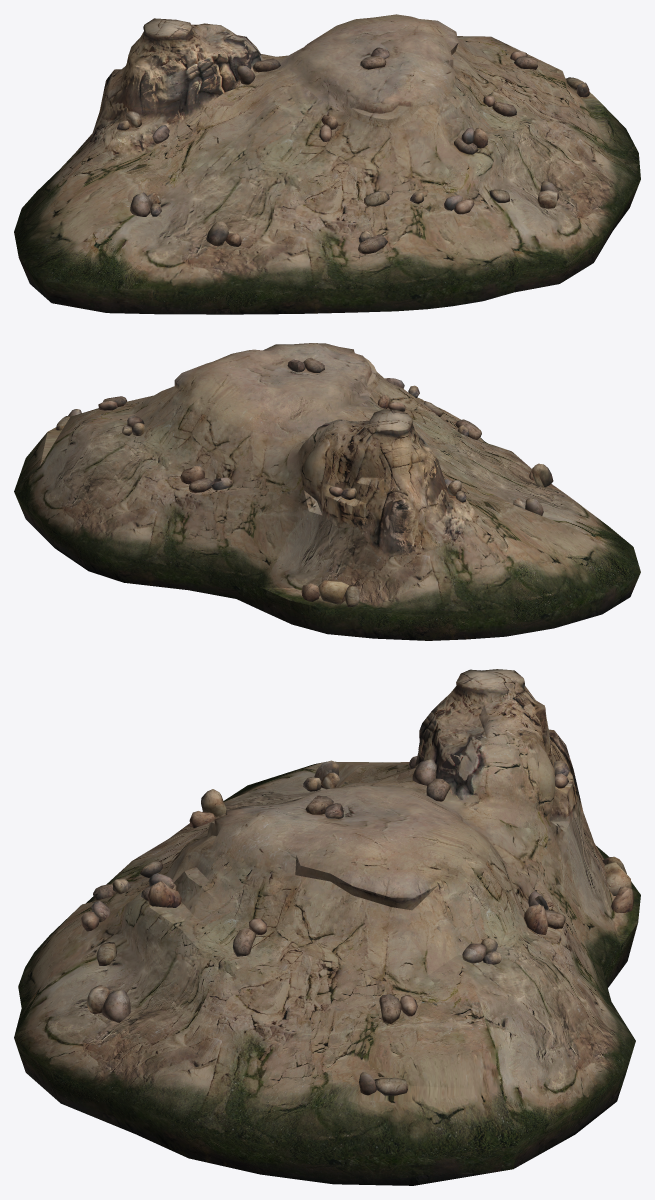
The model's file is Rock 05.FBX.
The picture shows the model from 3 angles, top to bottom: view 1: azimuth 30°, elevation 25°; view 2: azimuth 150°, elevation 25°; view 3: azimuth 270°, elevation 25°; orthographic projection. The views are drawn at different scales.
Visible parts, largest first — view 1: Rock 05; view 2: Rock 05; view 3: Rock 05.
Boxes of the visible parts, x1,y1,x2,y2 form: Rock 05: [14, 14, 640, 314]; Rock 05: [14, 343, 640, 640]; Rock 05: [14, 669, 640, 1185].
Bounding box in the file's own units: 540 × 163 × 366.
